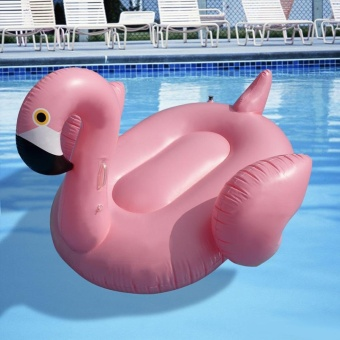Flamingo: (13, 62, 314, 297)
